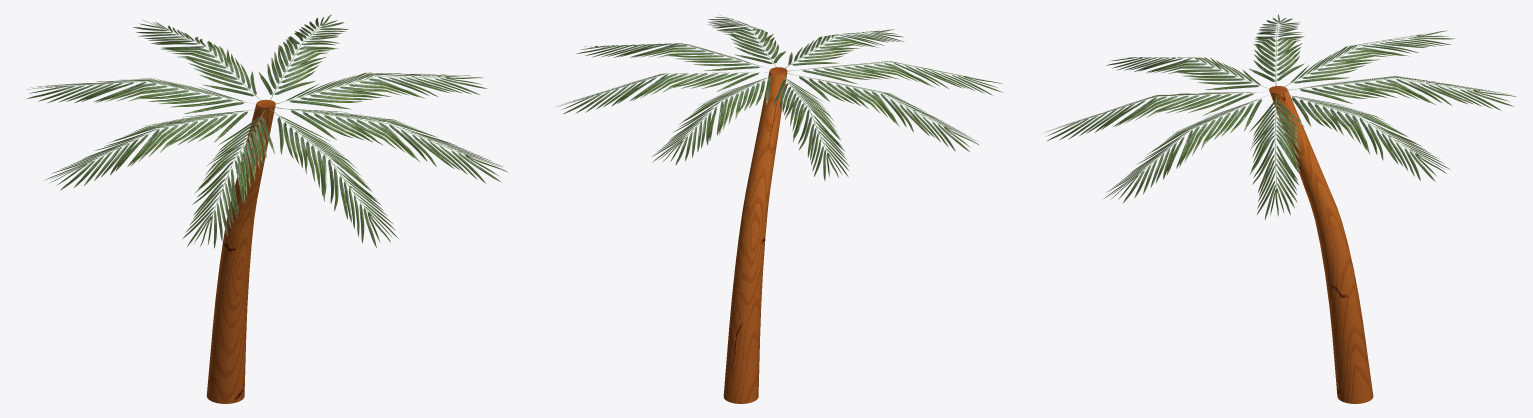
File: palm 1.glb
3 views of the same model, side by side, from view 1: azimuth 30°, elevation 25°; view 2: azimuth 150°, elevation 25°; view 3: azimuth 270°, elevation 25° (orthographic). The views are drawn at different scales.
Visible parts, largest first — view 1: Plane.015; view 2: Plane.015; view 3: Plane.015.
Boxes of the visible parts, x1=… form: Plane.015: x1=26, y1=14, x2=508, y2=403; Plane.015: x1=558, y1=14, x2=1003, y2=403; Plane.015: x1=1045, y1=14, x2=1516, y2=403.
Size of the model in its own units: 8 by 5.84 by 7.98.
Materials: 2 (2 with a texture image).
